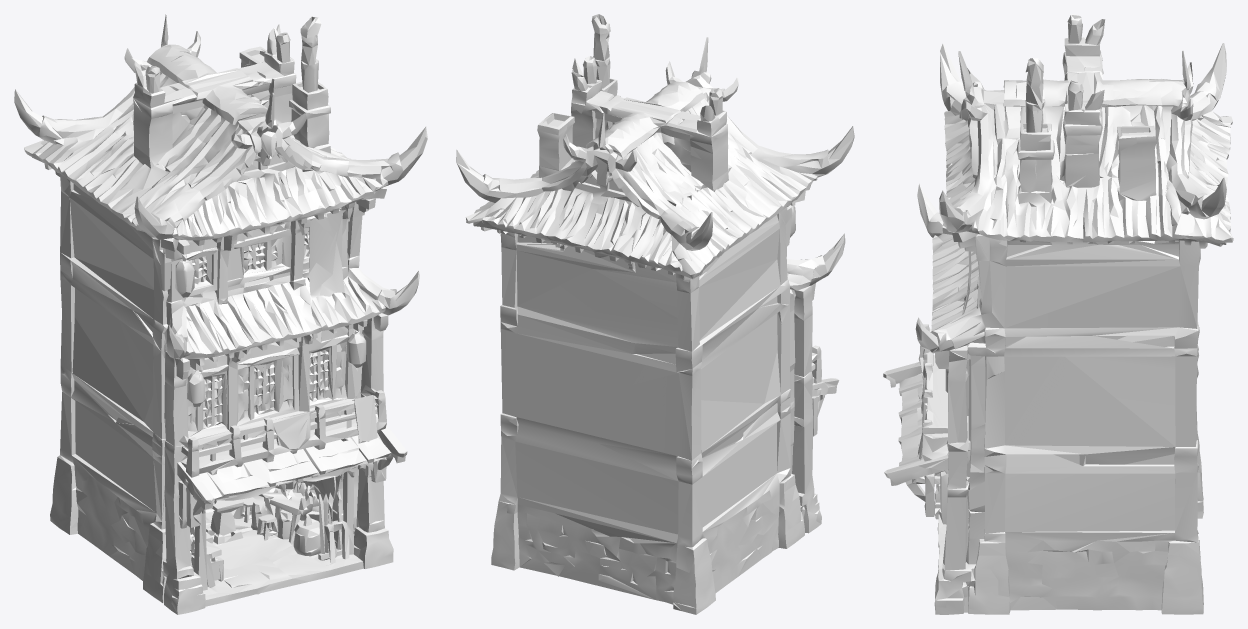
File: house_tall.glb
3 renders of one model, left to right at view 1: azimuth 30°, elevation 25°; view 2: azimuth 150°, elevation 25°; view 3: azimuth 270°, elevation 25°, orthographic. The views are drawn at different scales.
Parts seen in each view (by area): view 1: Mesh_0; view 2: Mesh_0; view 3: Mesh_0.
Boxes of the visible parts, x1=… form: Mesh_0: x1=14, y1=14, x2=427, y2=614; Mesh_0: x1=456, y1=14, x2=854, y2=614; Mesh_0: x1=883, y1=14, x2=1233, y2=614.
Bounding box in the file's own units: 7.65 × 13 × 7.62.
1 material, 1 textured.
